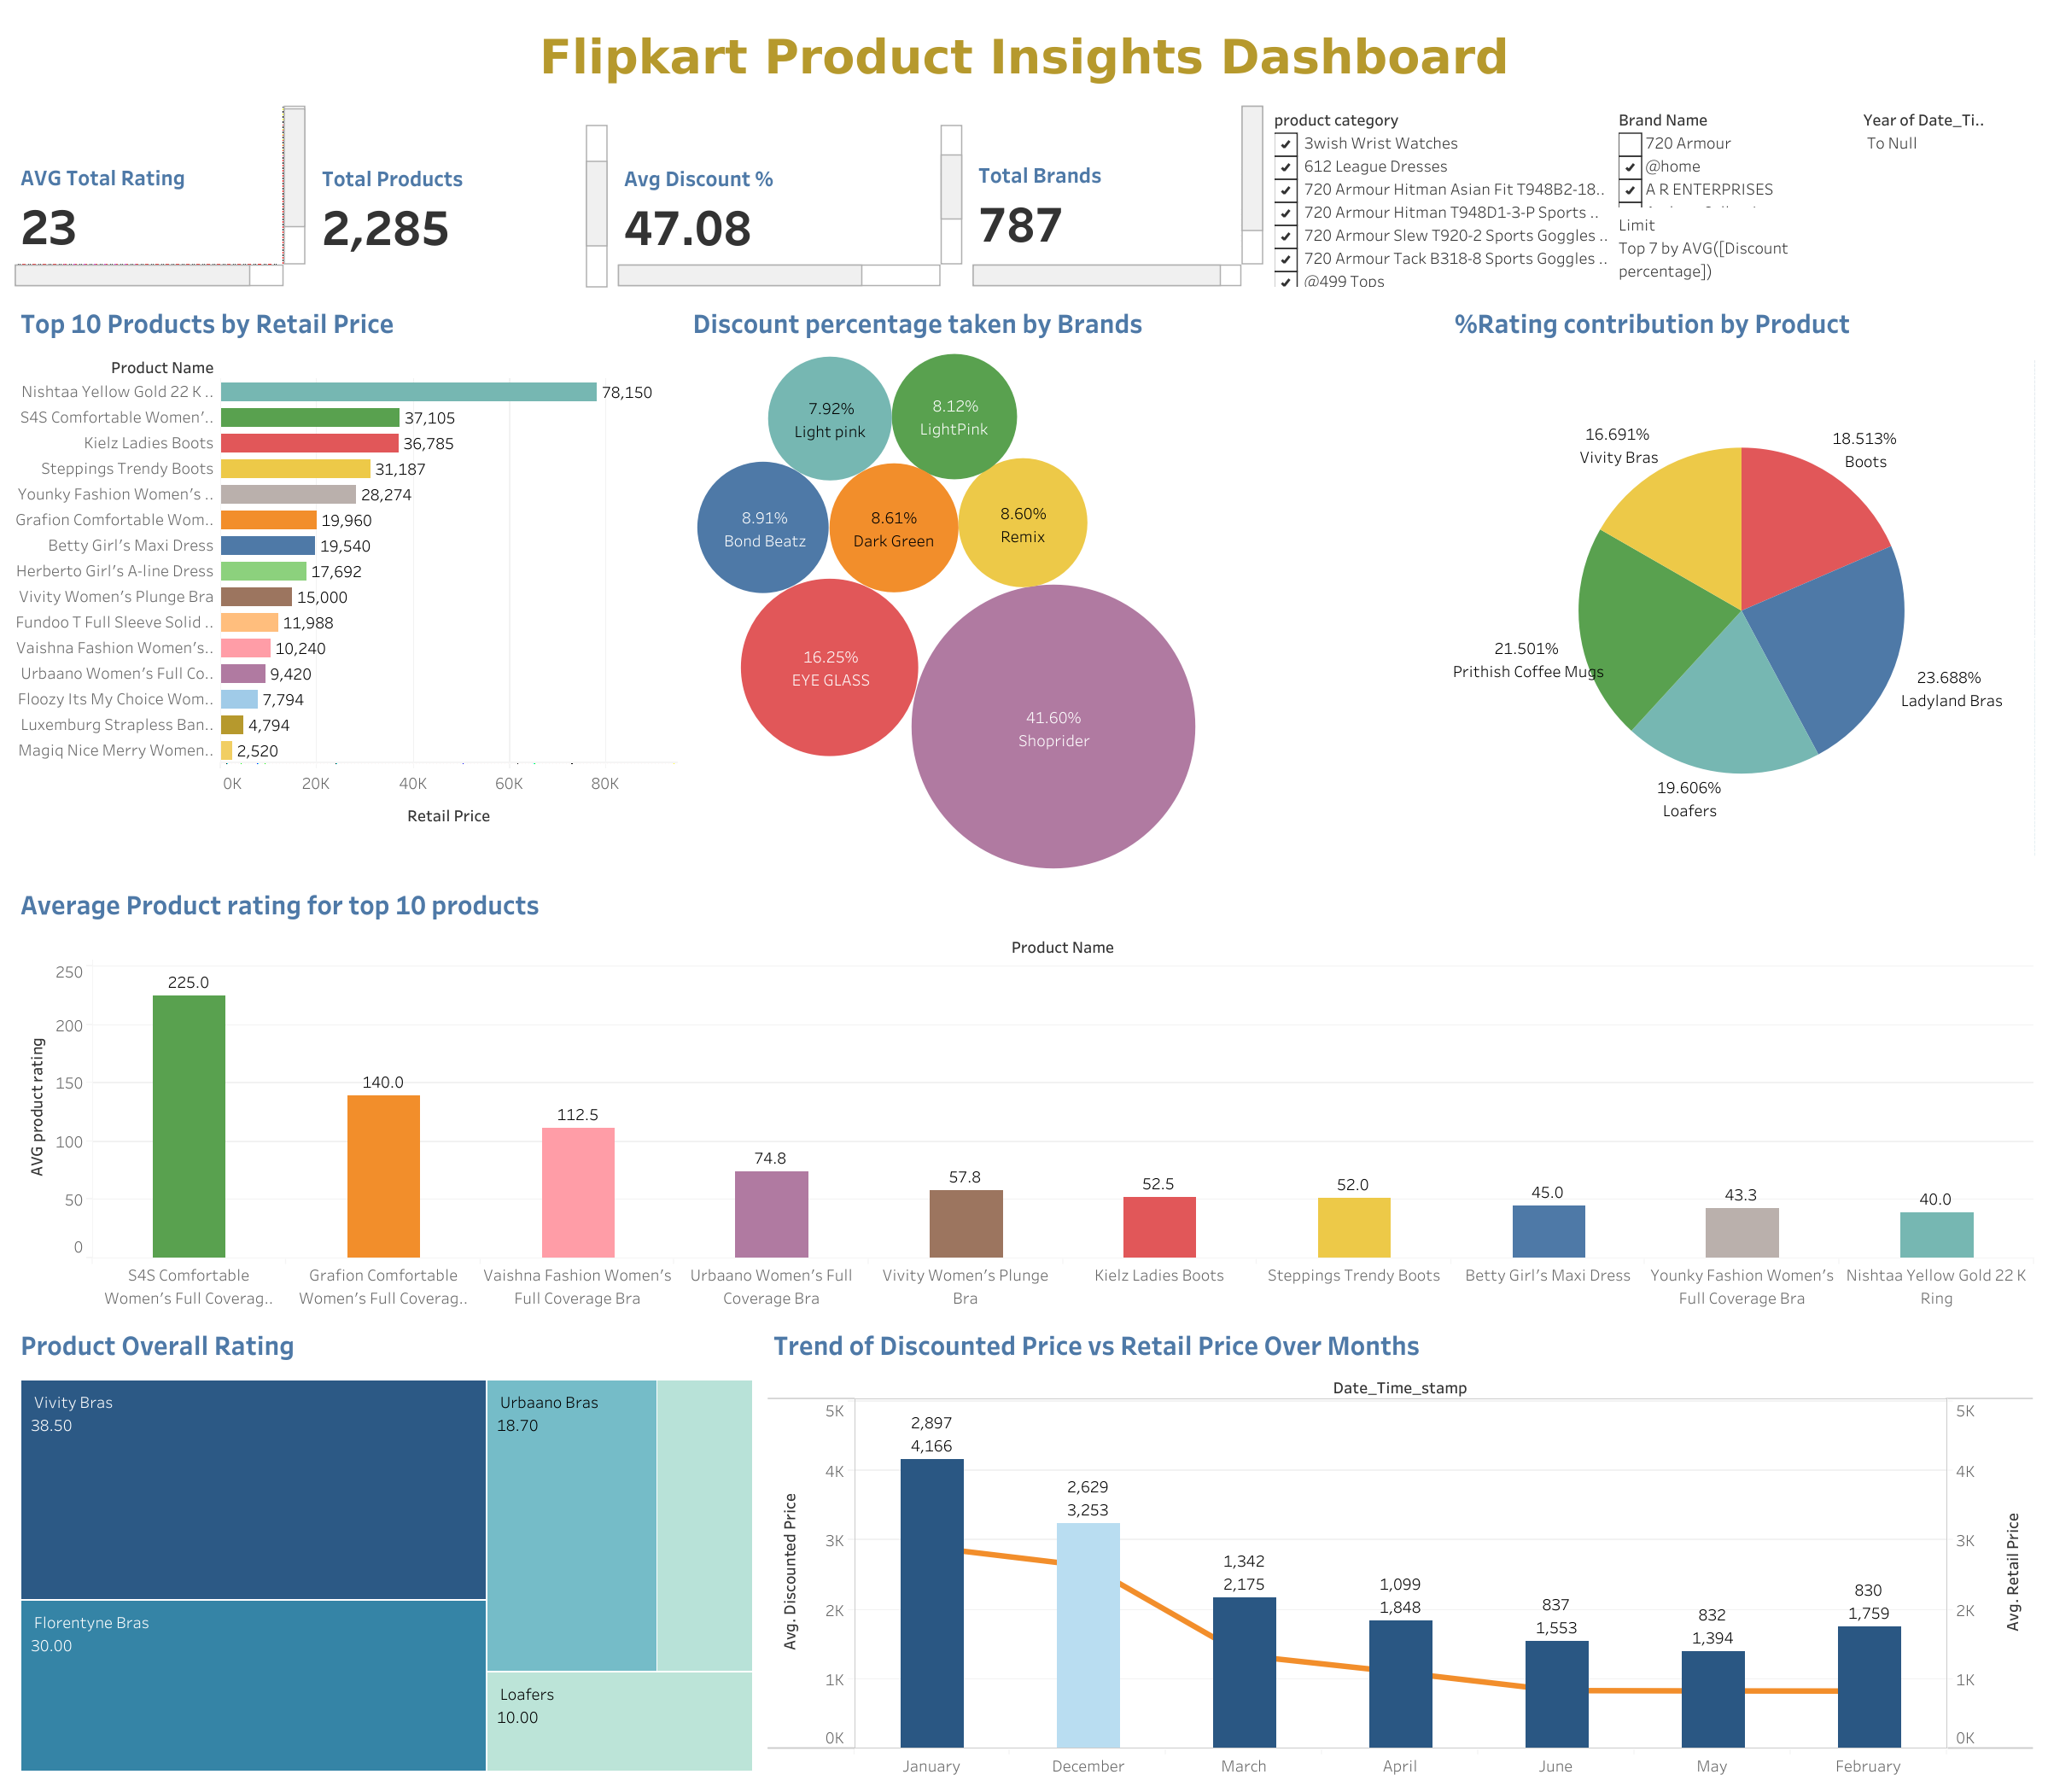

Layout of this report page (visuals, bound fields, positions):
{"tool":"tableau","page":{"name":"flipkart dashboard","canvas":[1600,1400],"ordinal":0},"visuals":[{"type":"title","box":[8,8,1584,71]},{"type":"worksheet","title":"kpi 2","mark":"Automatic","box":[8,79,235.3,149]},{"type":"worksheet","title":"Kpi 1","mark":"Text","box":[243.3,79,235.3,149]},{"type":"worksheet","title":"Kpi 4","mark":"Automatic","box":[478.6,79,277,149]},{"type":"worksheet","title":"Kpi 3","mark":"Automatic","box":[755.6,79,235.3,149]},{"type":"filter","title":"treemap","param":"[federated.1bj1w4f1645gcz10cscee0xebmjq].[none:Calculation_1629177211738066946:n","box":[991,79,269,149]},{"type":"filter","title":"bubble","param":"[federated.1bj1w4f1645gcz10cscee0xebmjq].[none:Calculation_1629177211878191109:n","box":[1260,79,191,149]},{"type":"filter","title":"dual axis","param":"[federated.1bj1w4f1645gcz10cscee0xebmjq].[tyr:Calculation_1629177211730944001:qk","box":[1451,79,109,149]},{"type":"worksheet","title":"H bar","mark":"Automatic","rows":["product_name"],"cols":["retail_price"],"box":[8,228,525,454]},{"type":"worksheet","title":"bubble","mark":"Circle","box":[533,228,595,454]},{"type":"worksheet","title":"pie","mark":"Pie","box":[1128,228,464,454]},{"type":"worksheet","title":"Bar","mark":"Automatic","rows":["AVG_product_rating"],"cols":["product_name"],"box":[8,682,1584,343.8]},{"type":"worksheet","title":"treemap","mark":"Automatic","box":[8,1025.8,588,366.2]},{"type":"worksheet","title":"dual axis","mark":"Automatic","rows":["discounted_price","retail_price"],"cols":["Calculation_1629177211730944001"],"box":[596,1025.8,995.9,366.2]}]}

Visuals, with their boxes in screenshot pixels (x1, y1, x2, y2), scaled from the page's 1600x1400 canvas onto the 2048x1792 screenshot:
title: {"left": 10, "top": 10, "right": 2038, "bottom": 101}
"kpi 2" worksheet: {"left": 10, "top": 101, "right": 312, "bottom": 292}
"Kpi 1" worksheet (Text marks): {"left": 312, "top": 101, "right": 613, "bottom": 292}
"Kpi 4" worksheet: {"left": 613, "top": 101, "right": 967, "bottom": 292}
"Kpi 3" worksheet: {"left": 967, "top": 101, "right": 1269, "bottom": 292}
"treemap" filter: {"left": 1269, "top": 101, "right": 1613, "bottom": 292}
"bubble" filter: {"left": 1613, "top": 101, "right": 1858, "bottom": 292}
"dual axis" filter: {"left": 1858, "top": 101, "right": 1997, "bottom": 292}
"H bar" worksheet: {"left": 10, "top": 292, "right": 682, "bottom": 873}
"bubble" worksheet (Circle marks): {"left": 682, "top": 292, "right": 1444, "bottom": 873}
"pie" worksheet (Pie marks): {"left": 1444, "top": 292, "right": 2038, "bottom": 873}
"Bar" worksheet: {"left": 10, "top": 873, "right": 2038, "bottom": 1313}
"treemap" worksheet: {"left": 10, "top": 1313, "right": 763, "bottom": 1782}
"dual axis" worksheet: {"left": 763, "top": 1313, "right": 2038, "bottom": 1782}
